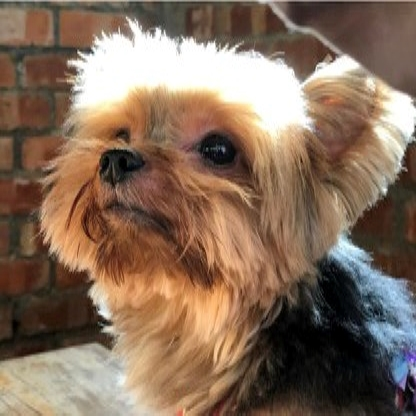yorkshire: (37, 17, 416, 415)
